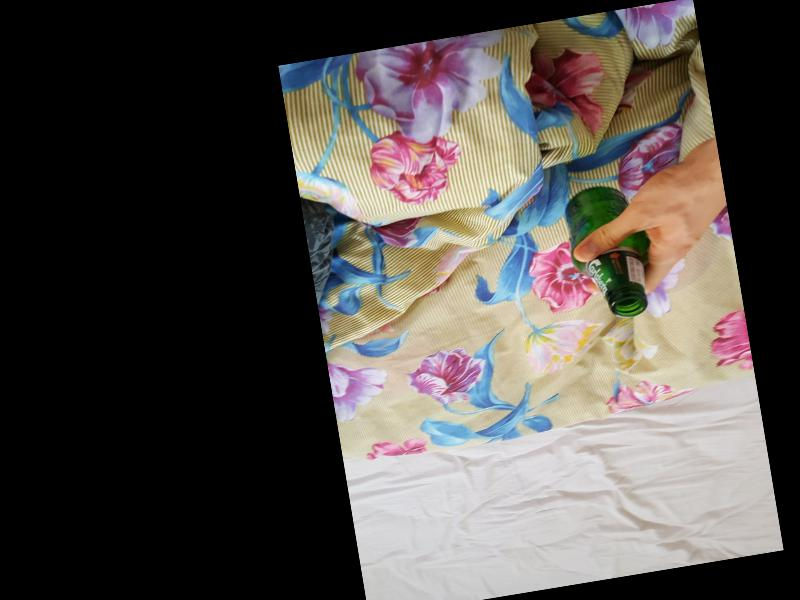Beer: (562, 179, 661, 322)
